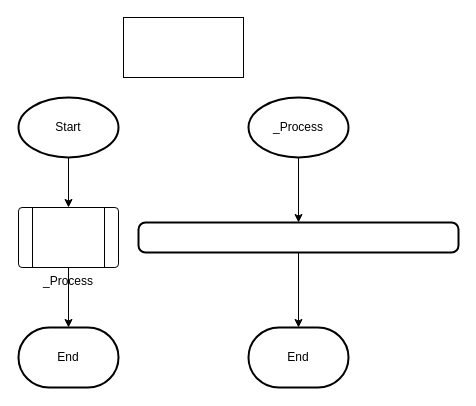
Image size: 476x406. Some labels were removed from this diagram. Each missing label, with the box of its shape:
GetNode<Label>("Label").Text=Global.score.ToString("D2"): (137, 221, 459, 253)
Score: (122, 16, 244, 78)
